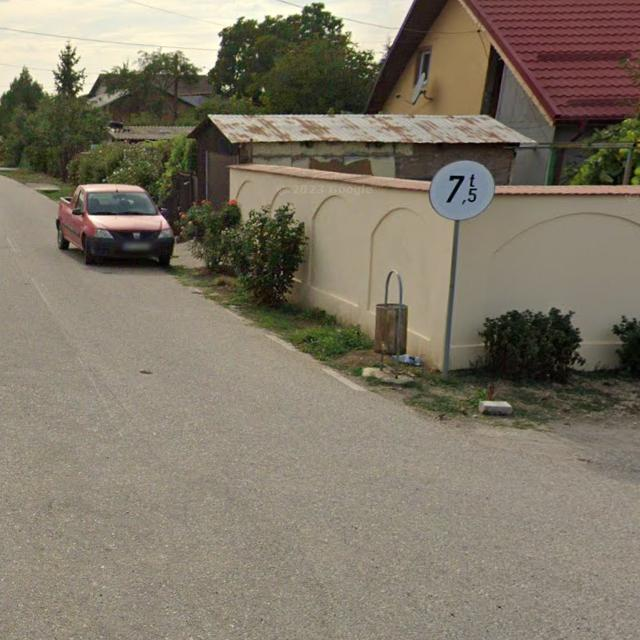forb_weight_over_7.5t: (429, 157, 496, 220)
